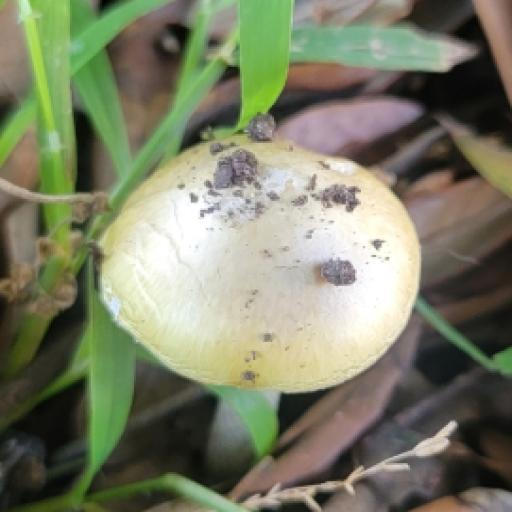mushroom: (82, 117, 436, 410)
